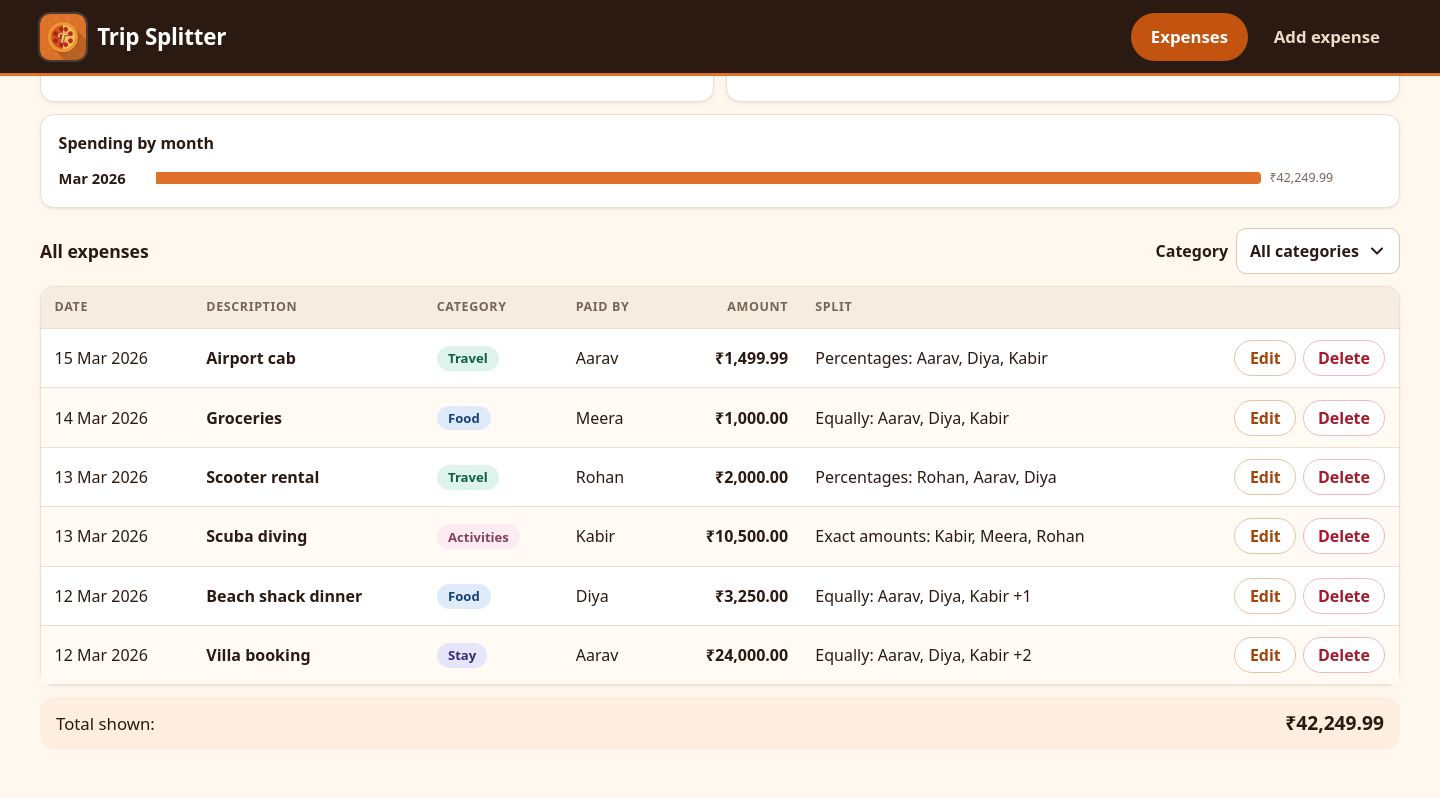
Test case: Expenses page › asks before deleting, then updates balances straight away
(page scrolled)
Click the button with aria-label "Delete Villa booking" at (1344, 655), box [1303, 637, 1385, 673]
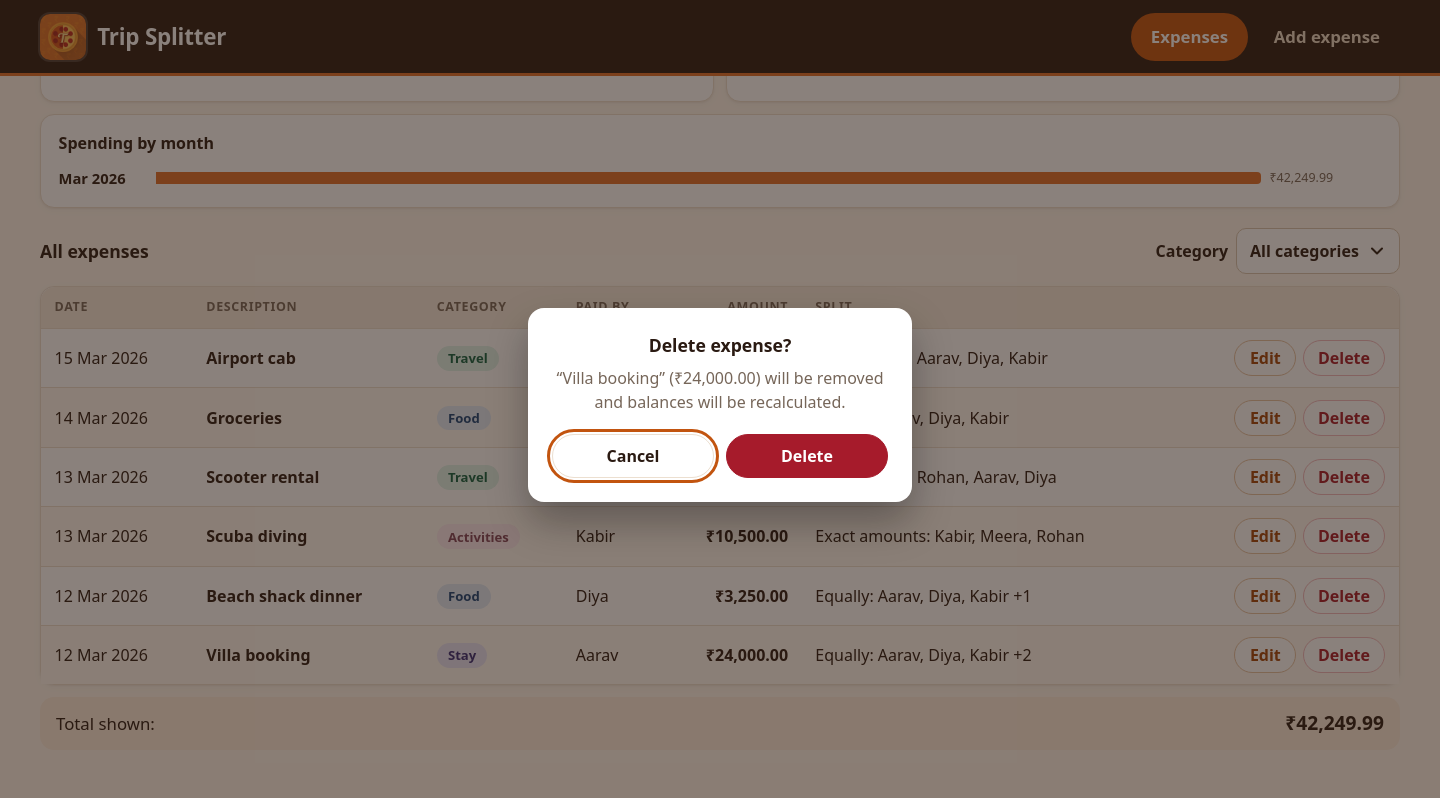
Click the button "Cancel" at (633, 456), box [552, 434, 714, 478]
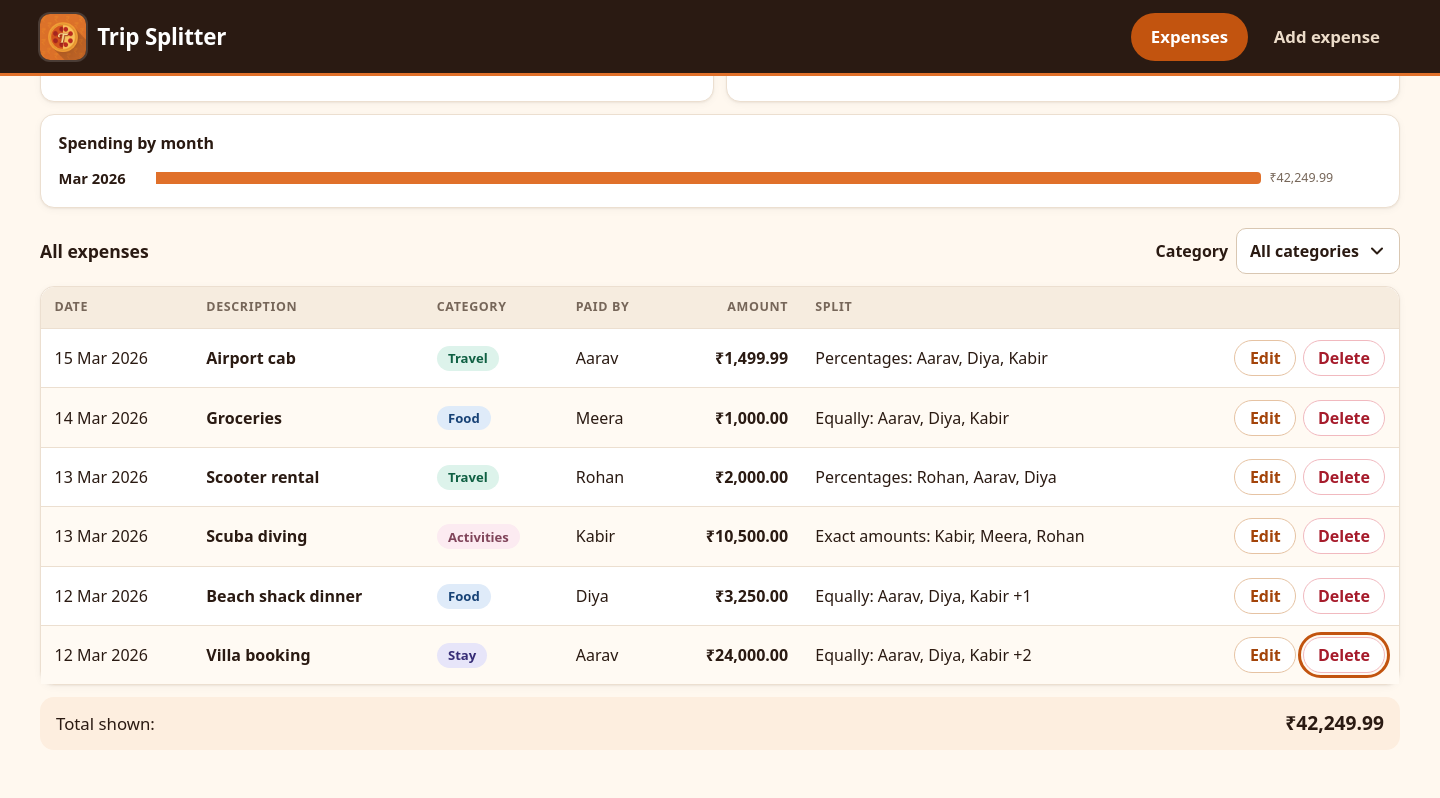
Expected: the text "Villa booking" is shown, [193, 626, 423, 684]
Expected: the dialog is gone
Click the button with aria-label "Delete Villa booking" at (1344, 655), box [1303, 637, 1385, 673]
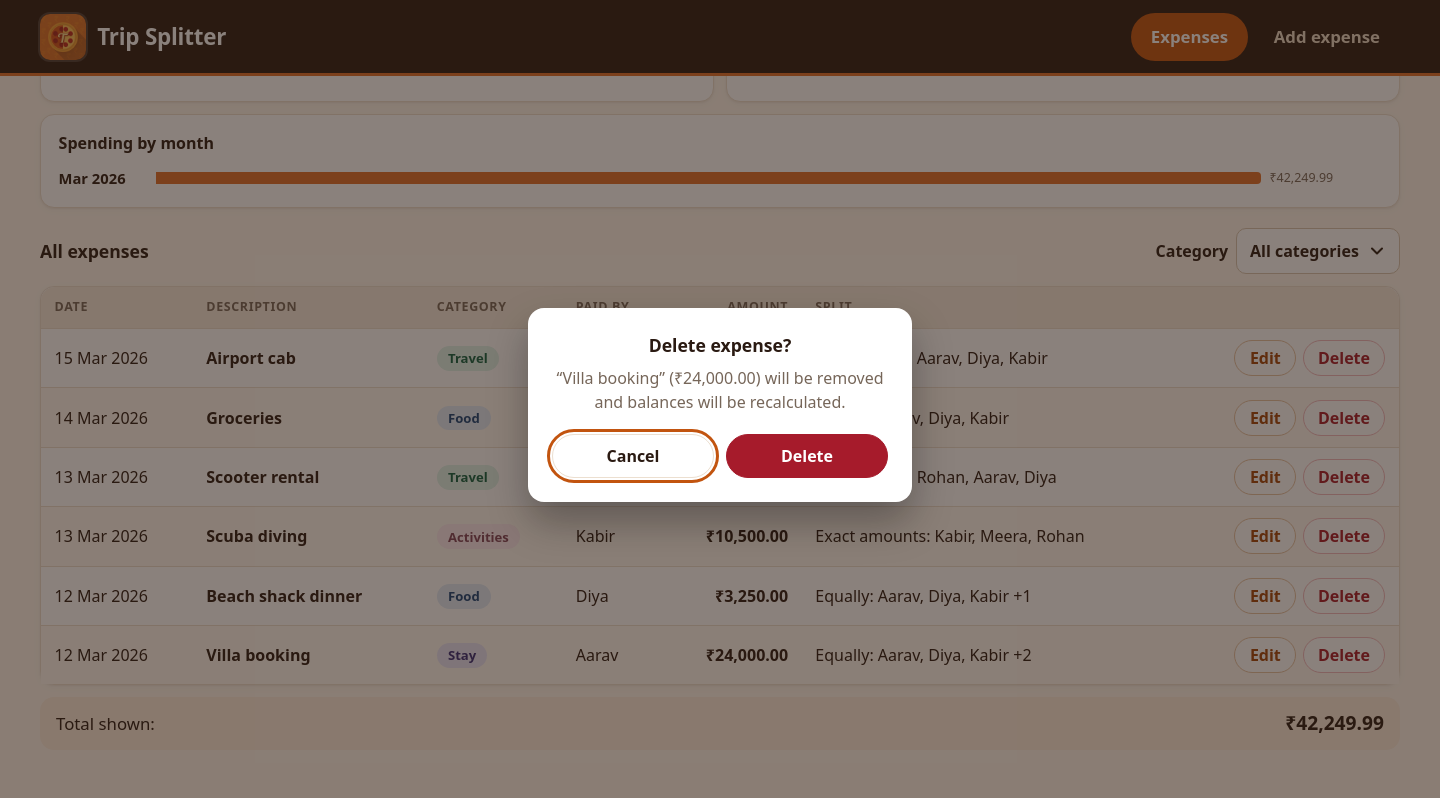
Click the button "Delete" at (807, 456), box [726, 434, 888, 478]
(page scrolled)
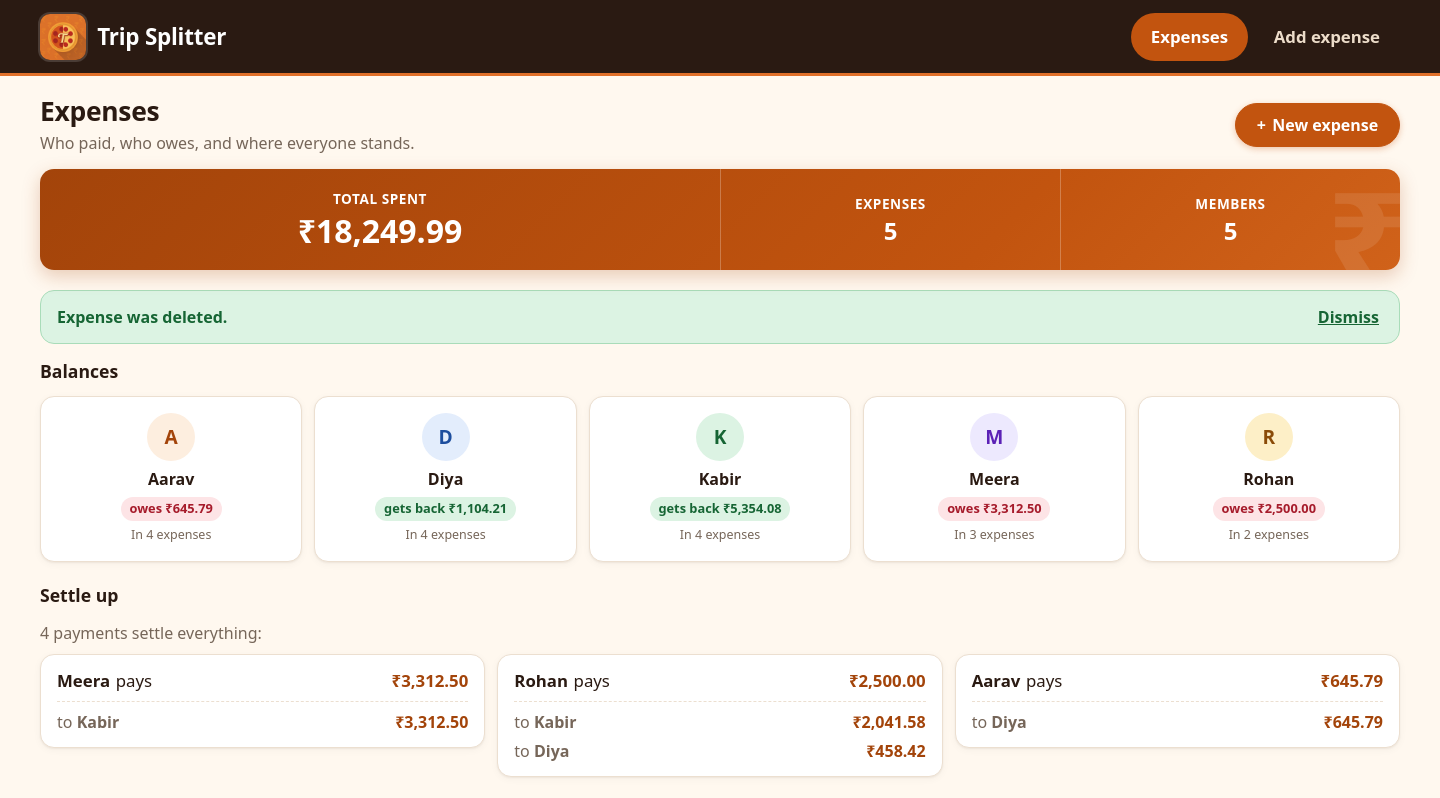
Expected: the text "Villa booking" is gone
Expected: the message shows "Expense was deleted.", [57, 306, 227, 328]
